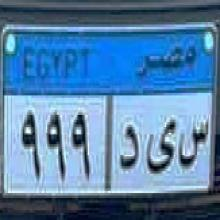9: (70, 106, 94, 186), (18, 104, 42, 184), (44, 107, 67, 185)
daal: (116, 116, 140, 176)
seen: (178, 114, 210, 180)
yaa: (143, 112, 177, 183)
